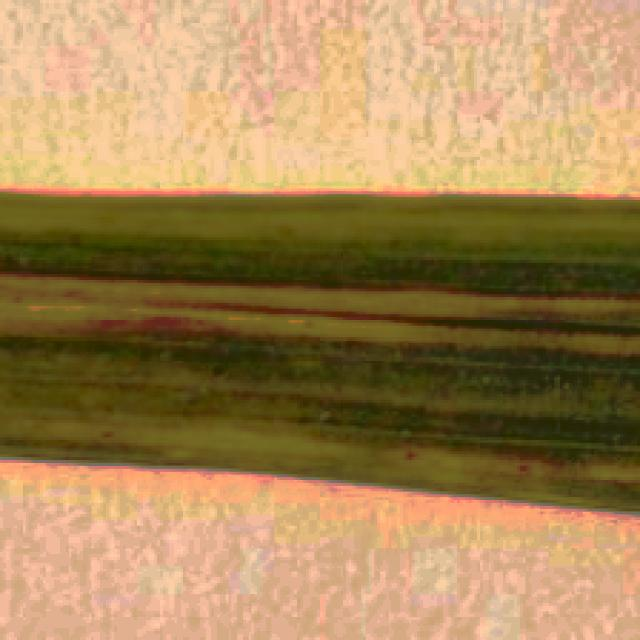unhealth: (2, 197, 640, 515)
